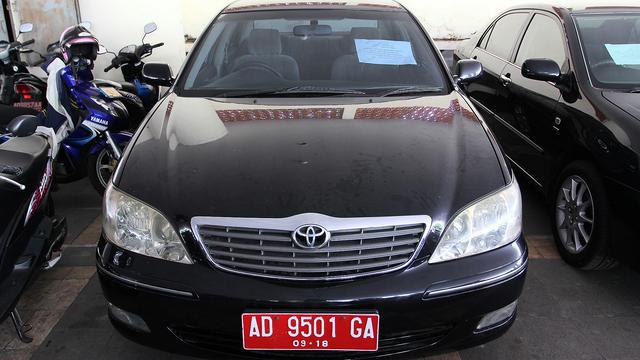plate: (240, 310, 378, 353)
